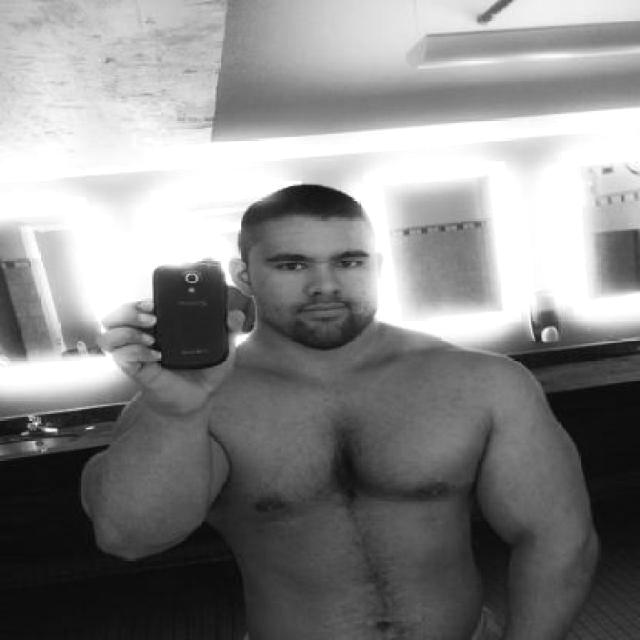fake: (149, 262, 229, 375)
real: (250, 219, 378, 343)
